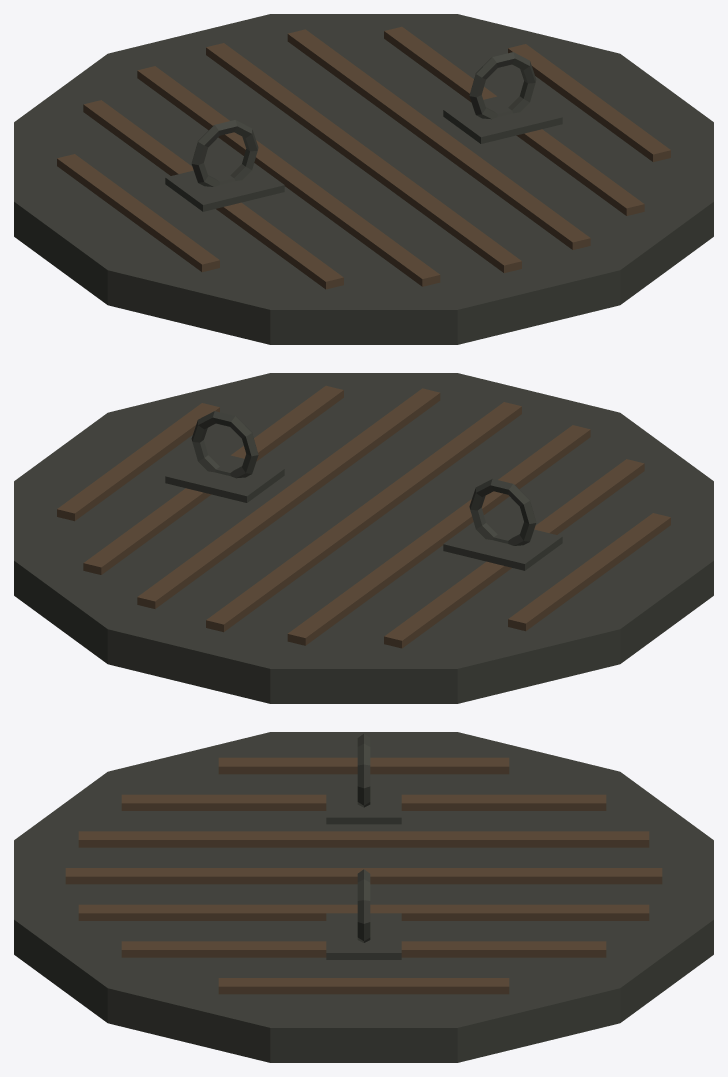
Rendered from shaft_lid.glb.
3 renders of one model, top to bottom at view 1: azimuth 30°, elevation 25°; view 2: azimuth 150°, elevation 25°; view 3: azimuth 270°, elevation 25°, orthographic.
Visible parts, largest first — view 1: Shaft lid; view 2: Shaft lid; view 3: Shaft lid.
Part boxes in pixels (x1,y1,x2,y2): Shaft lid: (14, 14, 713, 344); Shaft lid: (14, 373, 713, 703); Shaft lid: (14, 732, 713, 1062).
Size of the model in its own units: 0.7418 by 0.127 by 0.7418.
